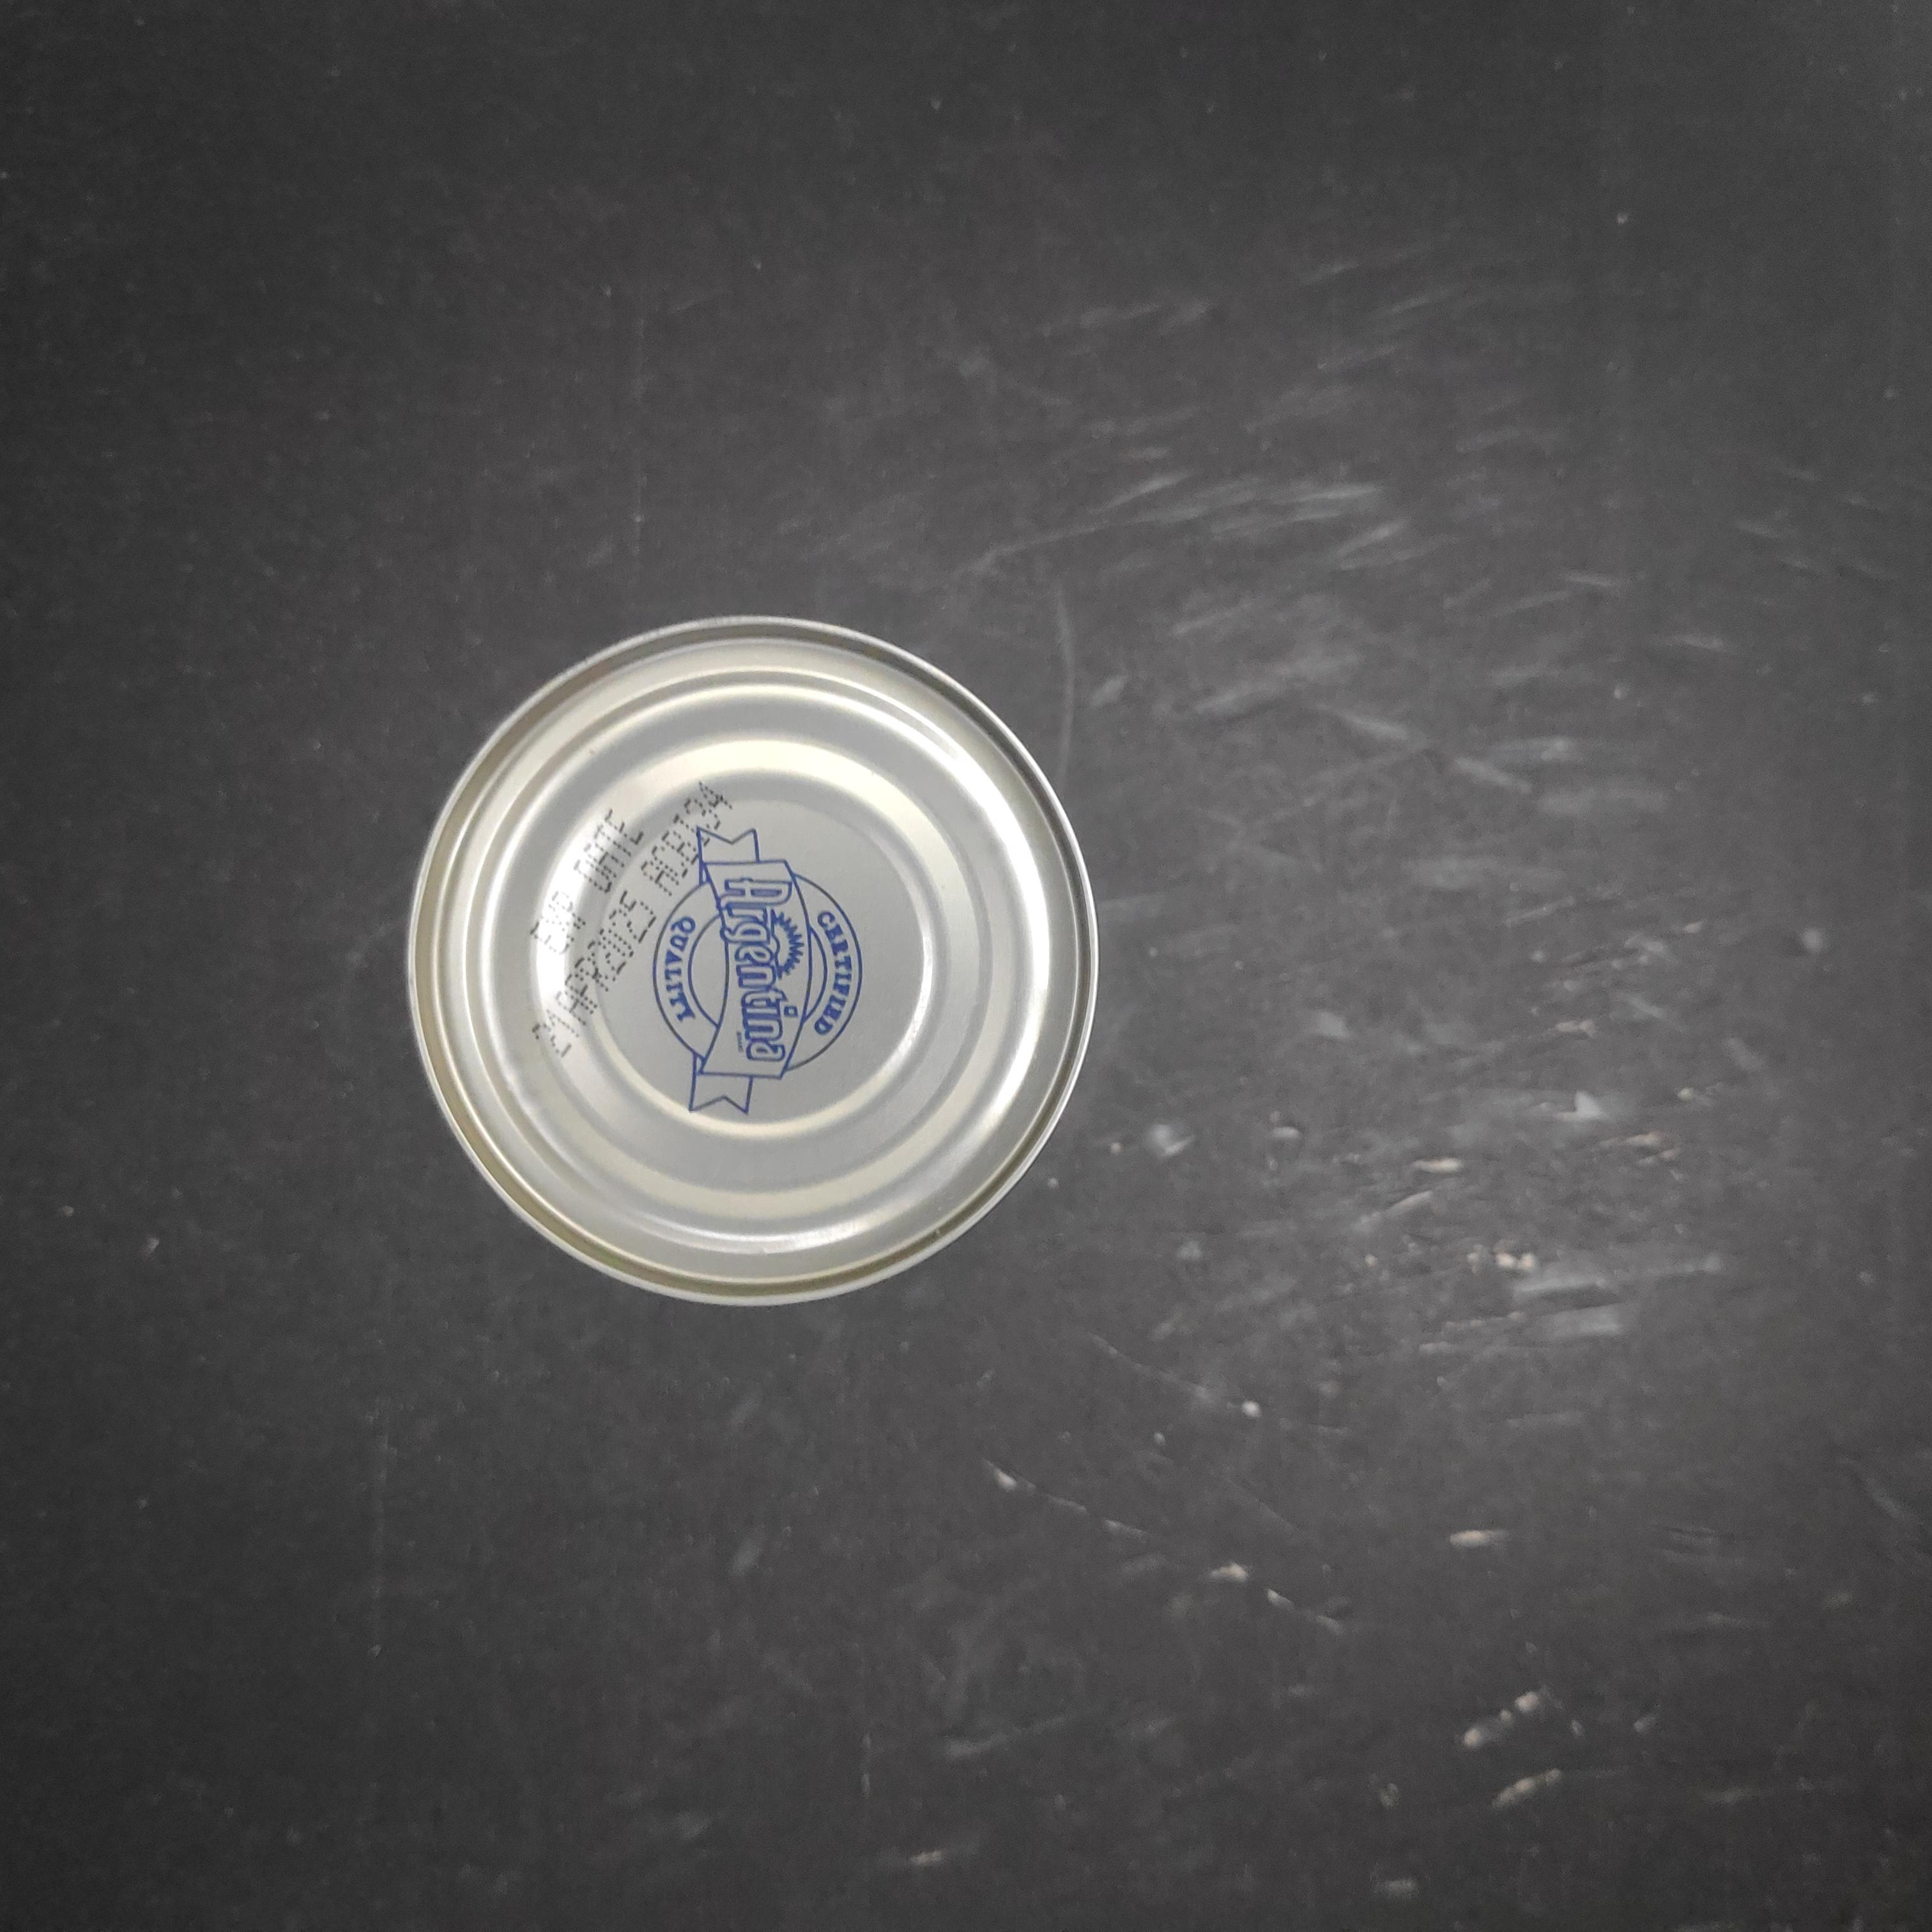No defect: (406, 615, 1100, 1310)
